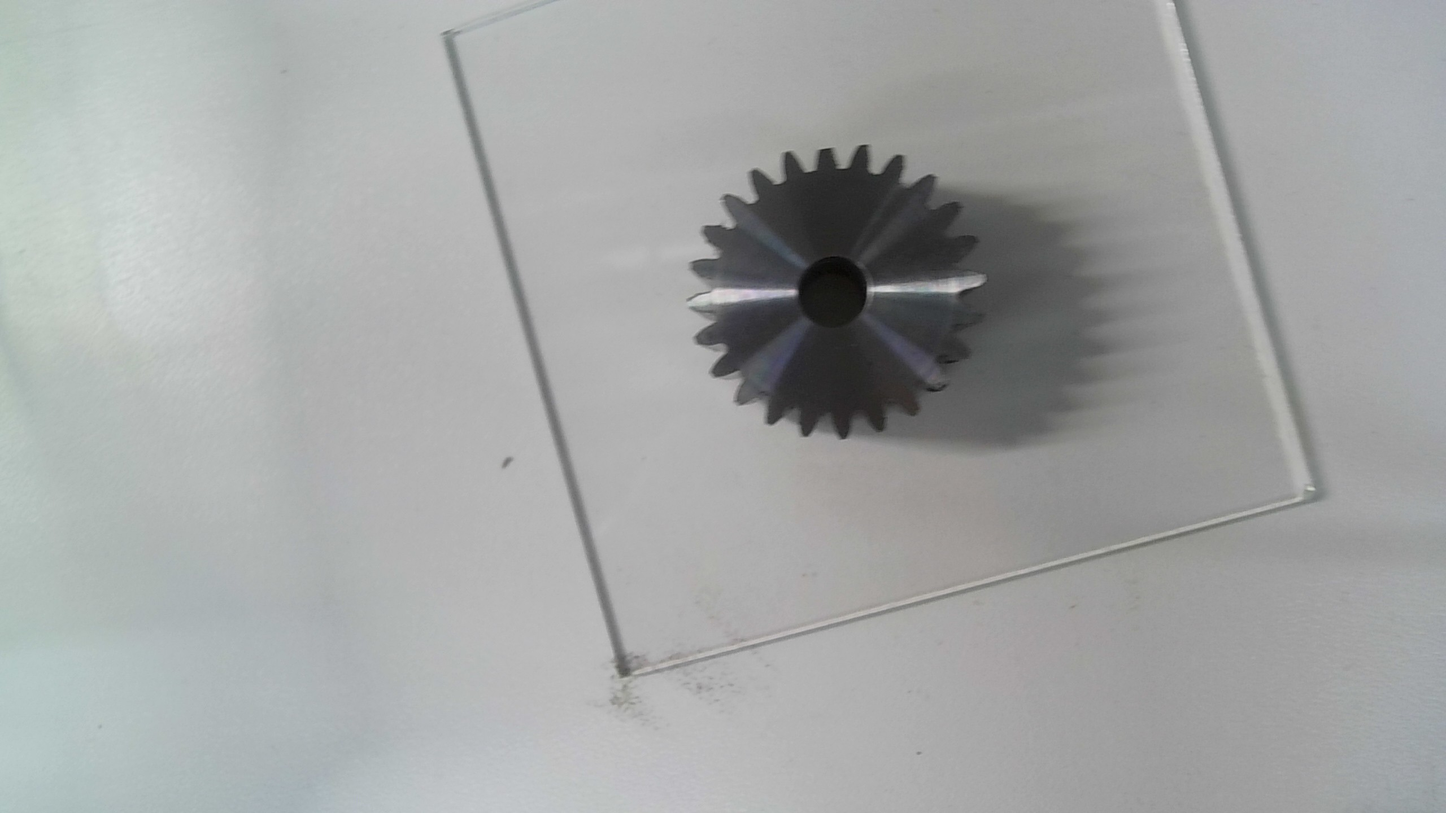gear: (679, 142, 991, 450)
